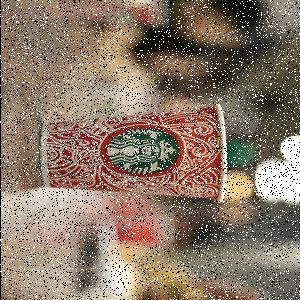Cup: (40, 105, 228, 205)
